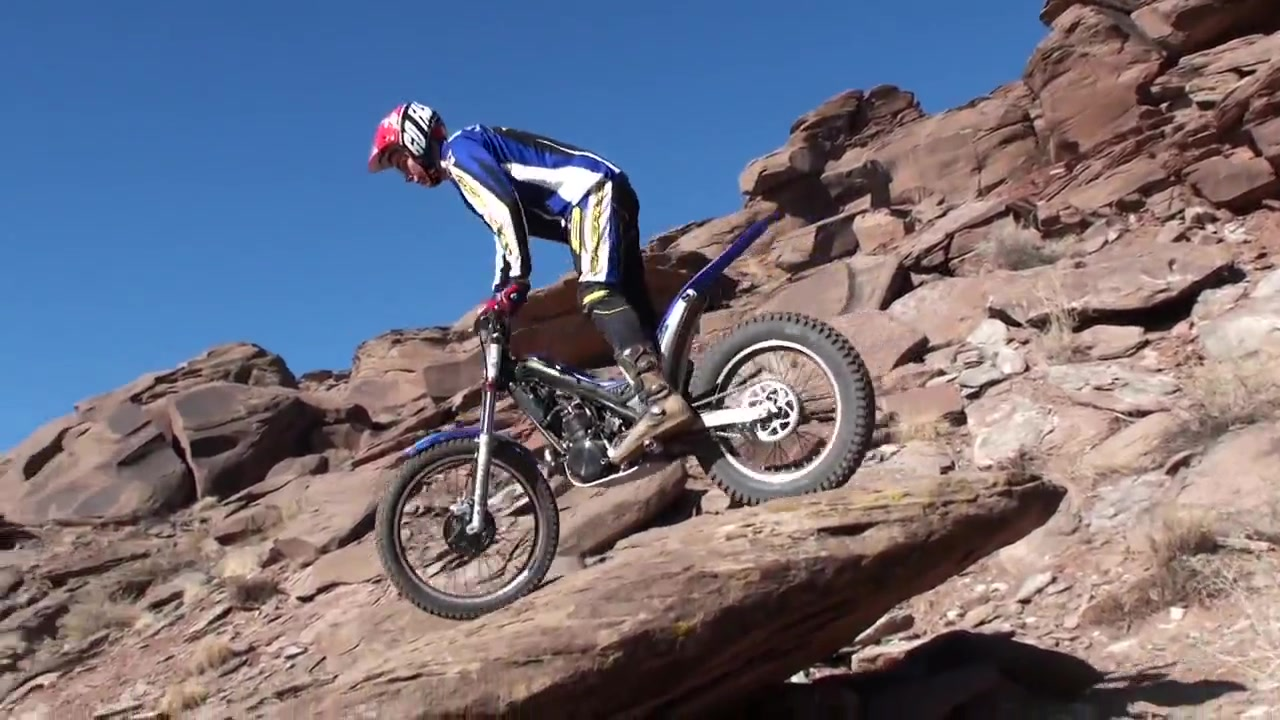motorbike: (375, 203, 879, 625)
